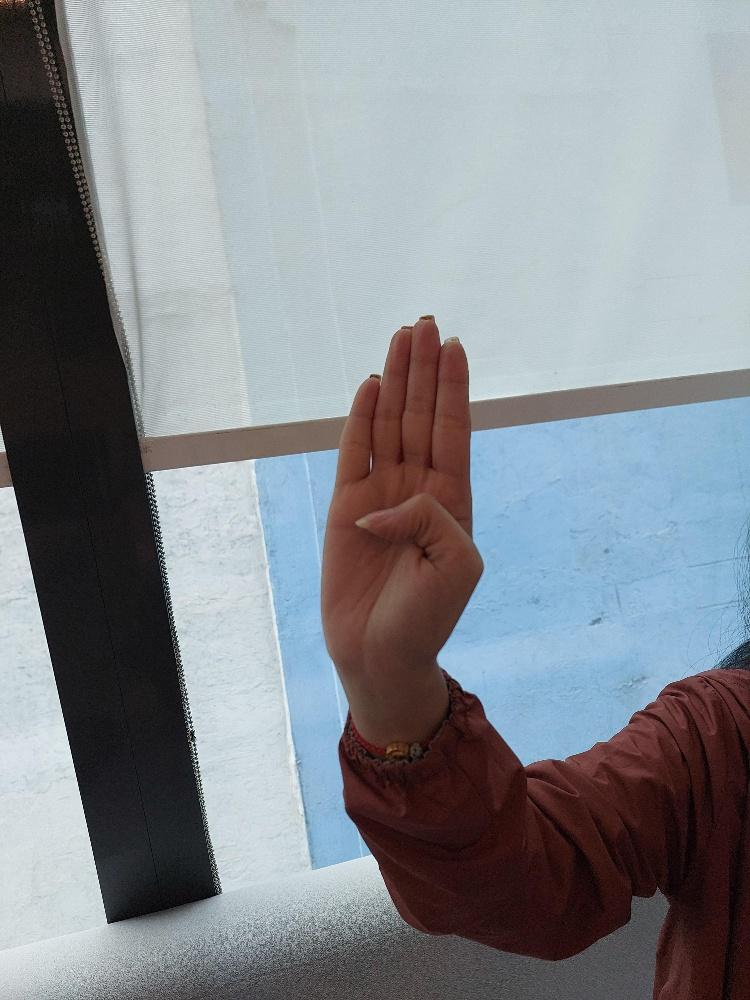b: (316, 314, 486, 681)
